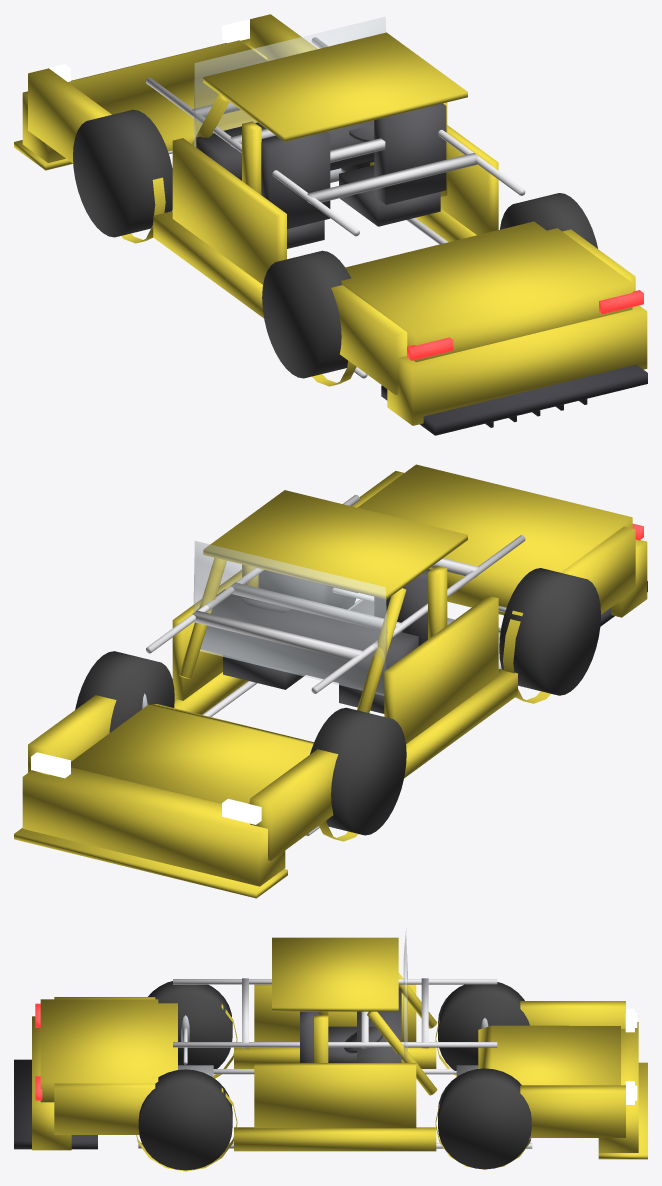
File: dune_buggy_complete.glb
3 views of the same model, one above another, from view 1: azimuth 30°, elevation 25°; view 2: azimuth 150°, elevation 25°; view 3: azimuth 270°, elevation 25° (orthographic). The views are drawn at different scales.
Parts seen in each view (by area): view 1: BODY_RearClip, BODY_Cabin, BODY_FrontClip, INTERIOR_Cockpit, WHEEL_FR, WHEEL_RR, CHASSIS_Main, AERO_Diffuser, GLASS_Windshield, WHEEL_RL, LIGHT_Taillamp_R, LIGHT_Taillamp_L; view 2: BODY_FrontClip, BODY_Cabin, BODY_RearClip, GLASS_Windshield, INTERIOR_Cockpit, WHEEL_RR, WHEEL_FR, CHASSIS_Main, WHEEL_FL, LIGHT_Headlamp_R, LIGHT_Headlamp_L; view 3: BODY_Cabin, BODY_FrontClip, BODY_RearClip, WHEEL_FL, WHEEL_RL, CHASSIS_Main, WHEEL_FR, WHEEL_RR, INTERIOR_Cockpit, AERO_Diffuser, GLASS_Windshield.
Part boxes in pixels (bbox=[...]): BODY_RearClip: bbox=[312, 221, 647, 425]; BODY_Cabin: bbox=[153, 32, 498, 318]; BODY_FrontClip: bbox=[14, 14, 317, 243]; INTERIOR_Cockpit: bbox=[196, 103, 446, 248]; WHEEL_FR: bbox=[73, 109, 172, 237]; WHEEL_RR: bbox=[262, 250, 350, 378]; CHASSIS_Main: bbox=[146, 37, 525, 378]; AERO_Diffuser: bbox=[381, 364, 647, 435]; GLASS_Windshield: bbox=[193, 17, 386, 146]; WHEEL_RL: bbox=[500, 193, 597, 248]; LIGHT_Taillamp_R: bbox=[407, 337, 453, 360]; LIGHT_Taillamp_L: bbox=[599, 290, 643, 314]; BODY_FrontClip: bbox=[14, 695, 358, 898]; BODY_Cabin: bbox=[172, 490, 517, 778]; BODY_RearClip: bbox=[352, 464, 647, 703]; GLASS_Windshield: bbox=[193, 541, 387, 695]; INTERIOR_Cockpit: bbox=[196, 569, 430, 713]; WHEEL_RR: bbox=[499, 568, 600, 695]; WHEEL_FR: bbox=[310, 707, 406, 835]; CHASSIS_Main: bbox=[146, 495, 525, 835]; WHEEL_FL: bbox=[75, 651, 174, 732]; LIGHT_Headlamp_R: bbox=[222, 798, 261, 824]; LIGHT_Headlamp_L: bbox=[31, 752, 70, 778]; BODY_Cabin: bbox=[234, 937, 437, 1151]; BODY_FrontClip: bbox=[435, 1001, 647, 1169]; BODY_RearClip: bbox=[32, 997, 237, 1171]; WHEEL_FL: bbox=[438, 1068, 531, 1169]; WHEEL_RL: bbox=[138, 1069, 232, 1170]; CHASSIS_Main: bbox=[138, 978, 532, 1148]; WHEEL_FR: bbox=[438, 982, 529, 1070]; WHEEL_RR: bbox=[148, 981, 232, 1068]; INTERIOR_Cockpit: bbox=[300, 988, 401, 1062]; AERO_Diffuser: bbox=[14, 1059, 97, 1149]; GLASS_Windshield: bbox=[403, 928, 407, 1062].
Bounding box in the file's own units: 2.14 × 1.54 × 5.4.
